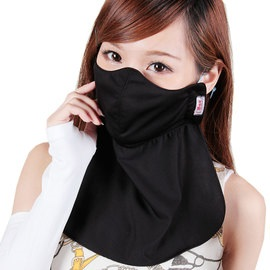face_mask: (94, 12, 196, 141)
